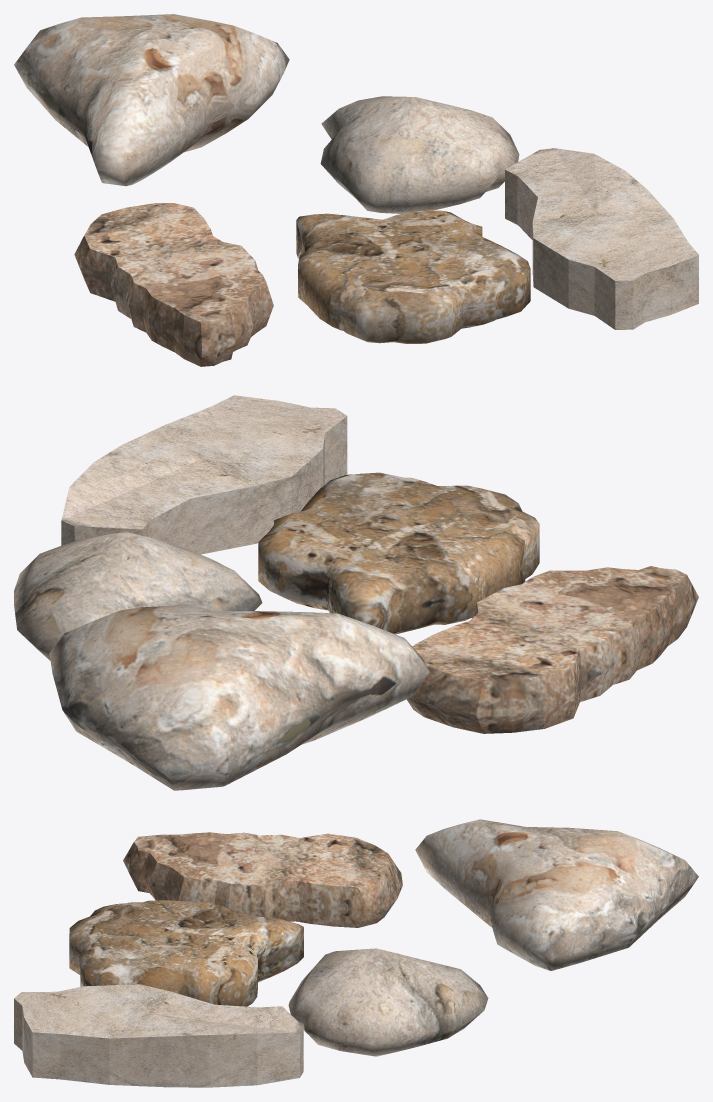
File: luganshi.FBX
The picture shows the model from 3 angles, top to bottom: view 1: azimuth 30°, elevation 25°; view 2: azimuth 150°, elevation 25°; view 3: azimuth 270°, elevation 25°; orthographic projection. The views are drawn at different scales.
Parts seen in each view (by area): view 1: Line002, Line004, Line005, Line003, Line001; view 2: Line002, Line004, Line003, Line005, Line001; view 3: Line002, Line005, Line003, Line004, Line001.
Part boxes in pixels (x1=…): Line002: x1=14, y1=14, x2=289, y2=186; Line004: x1=296, y1=210, x2=530, y2=343; Line005: x1=505, y1=148, x2=698, y2=329; Line003: x1=74, y1=203, x2=273, y2=366; Line001: x1=320, y1=96, x2=519, y2=213; Line002: x1=49, y1=605, x2=429, y2=790; Line004: x1=258, y1=472, x2=539, y2=634; Line003: x1=407, y1=566, x2=698, y2=733; Line005: x1=61, y1=395, x2=347, y2=554; Line001: x1=14, y1=532, x2=262, y2=660; Line002: x1=415, y1=819, x2=698, y2=970; Line005: x1=14, y1=984, x2=303, y2=1087; Line003: x1=123, y1=832, x2=402, y2=927; Line004: x1=69, y1=900, x2=303, y2=1006; Line001: x1=288, y1=948, x2=488, y2=1056.
Size of the model in its own units: 51.11 by 15.66 by 68.86.
Materials: 1 (1 with a texture image).
